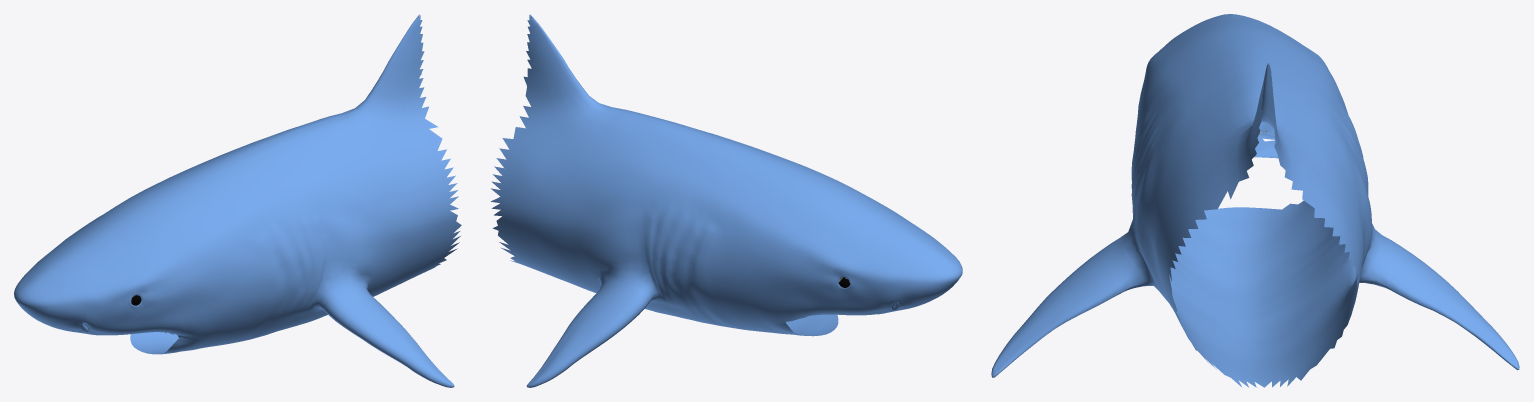
The model's file is tiburon.obj.
The picture shows the model from 3 angles, left to right: view 1: azimuth 30°, elevation 25°; view 2: azimuth 150°, elevation 25°; view 3: azimuth 270°, elevation 25°; orthographic projection. The views are drawn at different scales.
Visible parts, largest first — view 1: shark; view 2: shark; view 3: shark.
Part boxes in pixels (x1,y1,x2,y2): shark: (14, 14, 461, 387); shark: (491, 14, 962, 387); shark: (991, 14, 1519, 387).
Size of the model in its own units: 14.58 by 9.2 by 12.
Materials: 4 (4 with a texture image).
